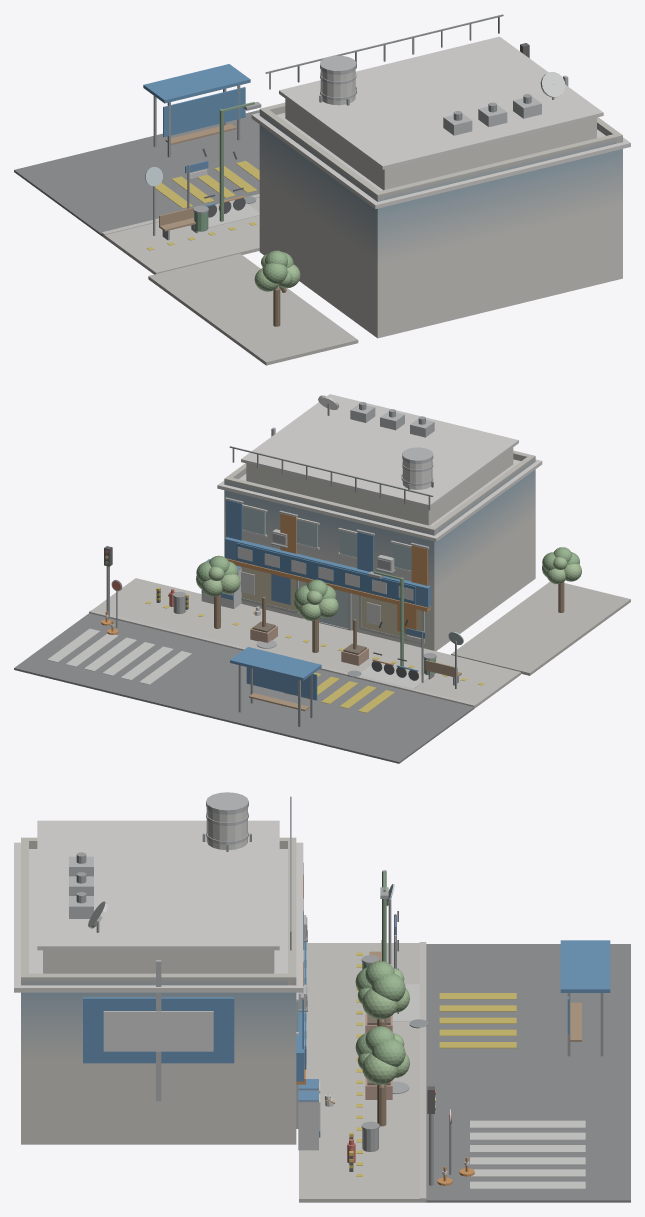
The model's file is store_04.glb.
The picture shows the model from 3 angles, top to bottom: view 1: azimuth 30°, elevation 25°; view 2: azimuth 150°, elevation 25°; view 3: azimuth 270°, elevation 25°; orthographic projection. The views are drawn at different scales.
Parts seen in each view (by area): view 1: geometry_0; view 2: geometry_0; view 3: geometry_0.
Boxes of the visible parts, x1=… form: geometry_0: x1=14, y1=14, x2=630, y2=365; geometry_0: x1=14, y1=394, x2=630, y2=763; geometry_0: x1=14, y1=792, x2=630, y2=1202.
Bounding box in the file's own units: 22.45 × 9.27 × 22.4.
